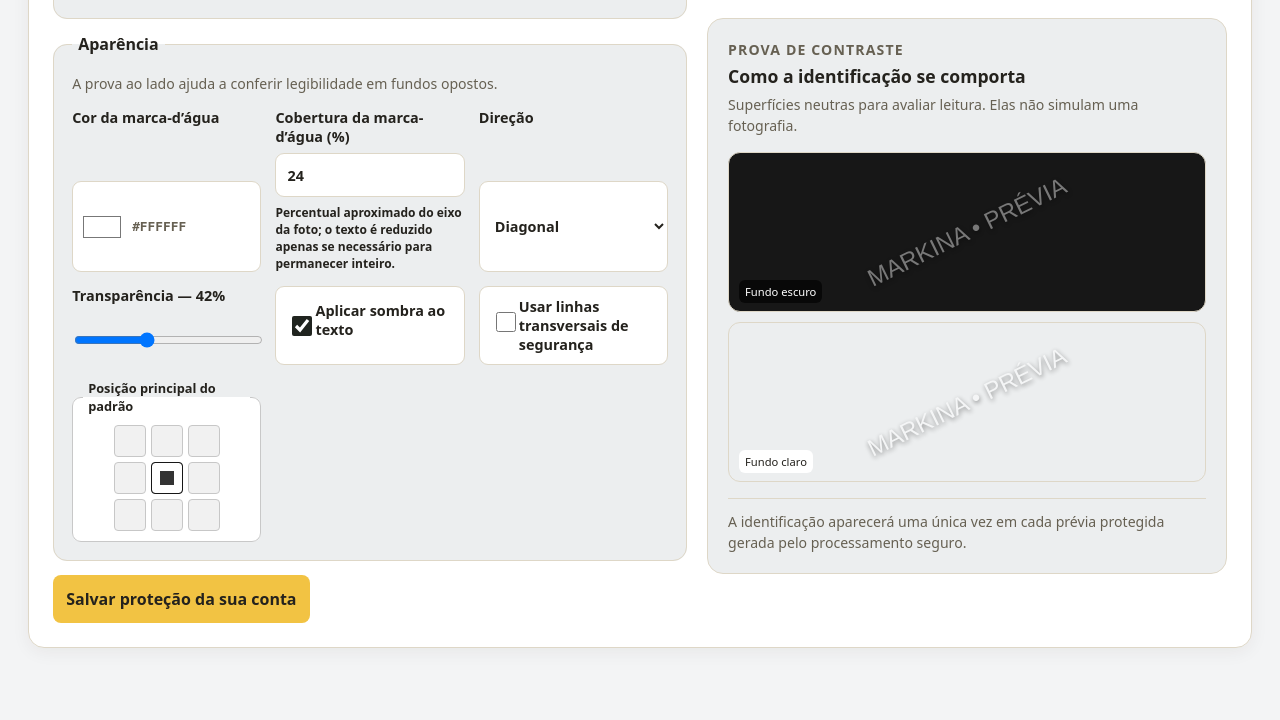
Test: configurações administrativas de marca › mantém os controles disponíveis e informa falha de salvamento
This screenshot has width=1280, height=720.
(page scrolled)
expect the dropdown labelled "Direção" is shown: met, box [479,181,668,272]
Click the button "Salvar proteção da sua conta": click(181, 599) [53,575,310,623]
(page scrolled)
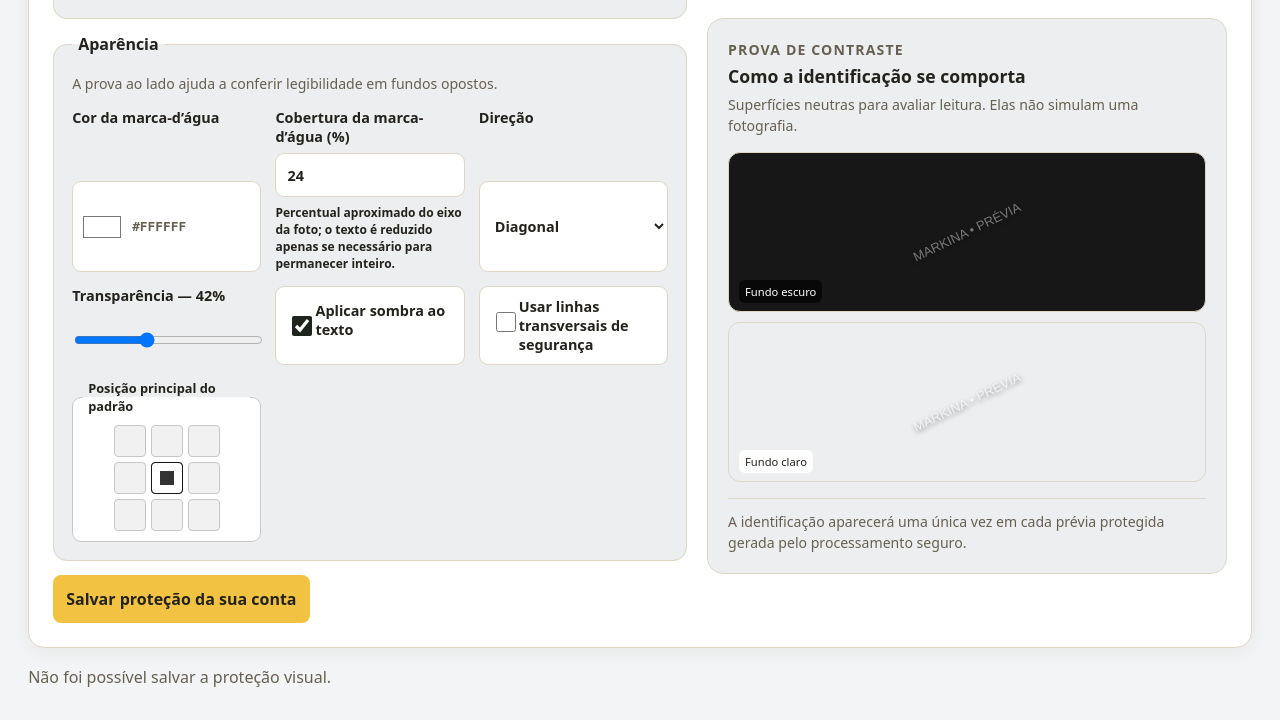
expect the text "Não foi possível salvar a proteção visual." is shown: met, box [28,666,331,688]
